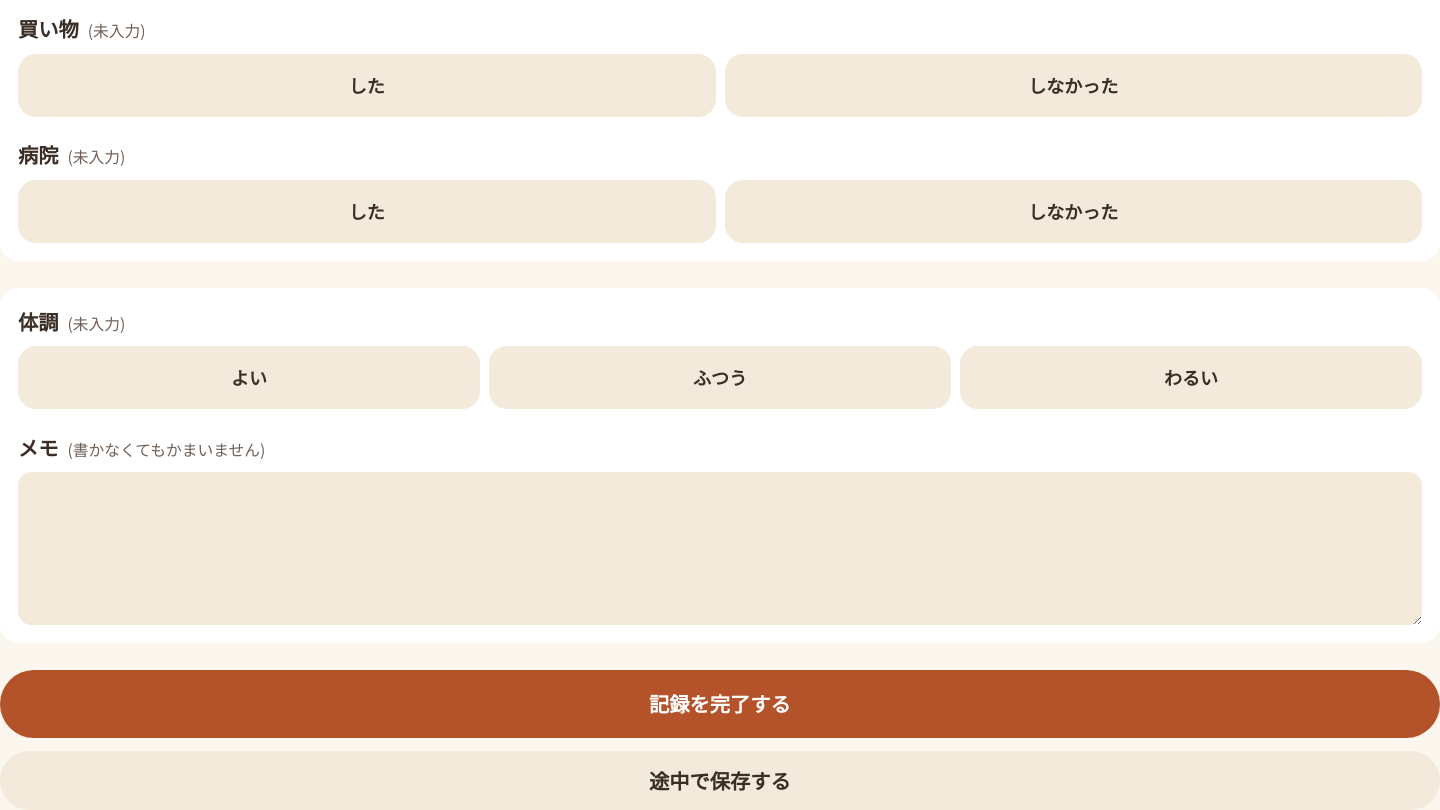
Test: RecordForm › 写真が無い日も、完了したことを伝える
The width and height of the screenshot is (1440, 810).
(page scrolled)
Click the button "記録を完了する". click: (720, 704)
box: [0, 670, 1439, 738]
(page scrolled)
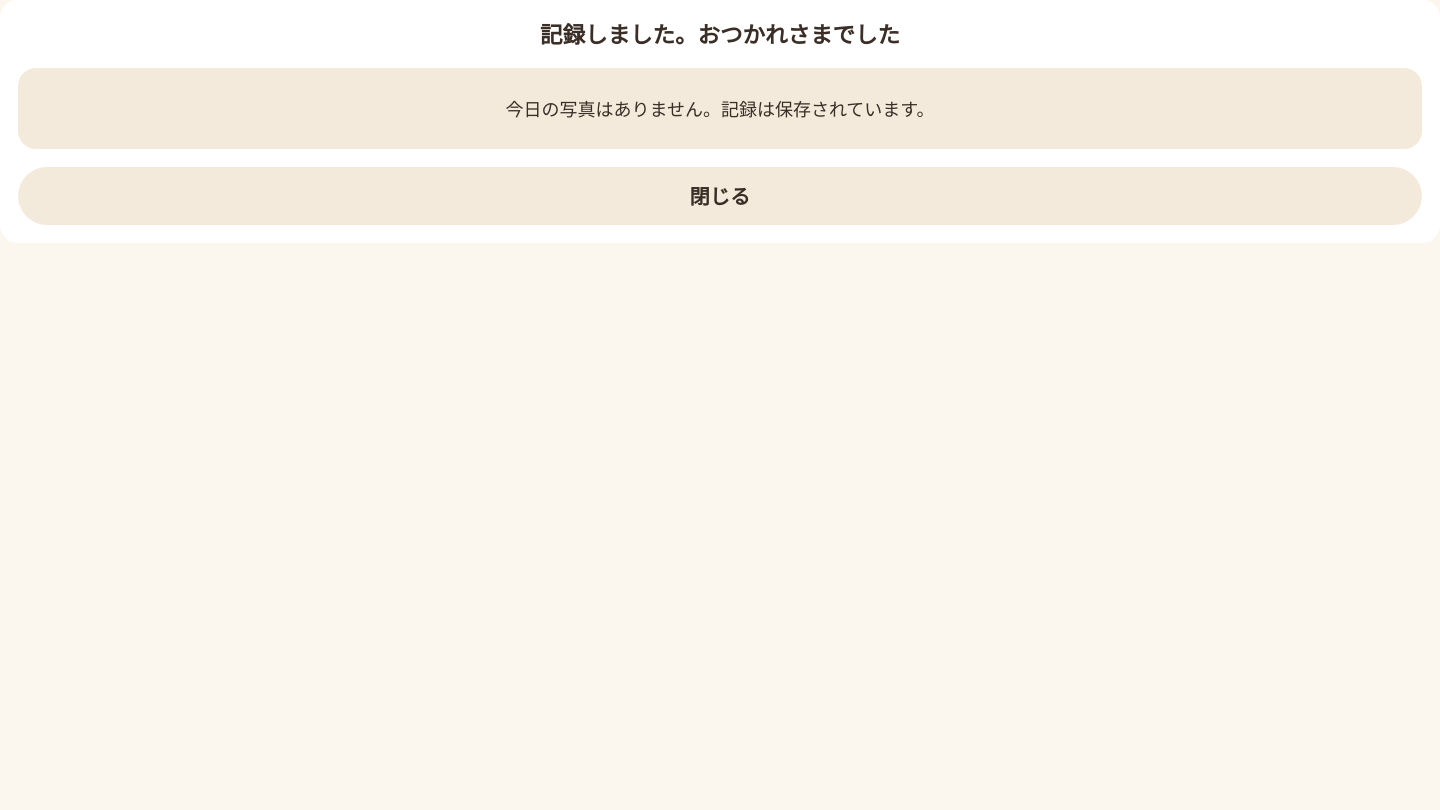
expect the text "今日の写真はありません。記録は保存されています。" is shown: met, box [18, 68, 1422, 148]
